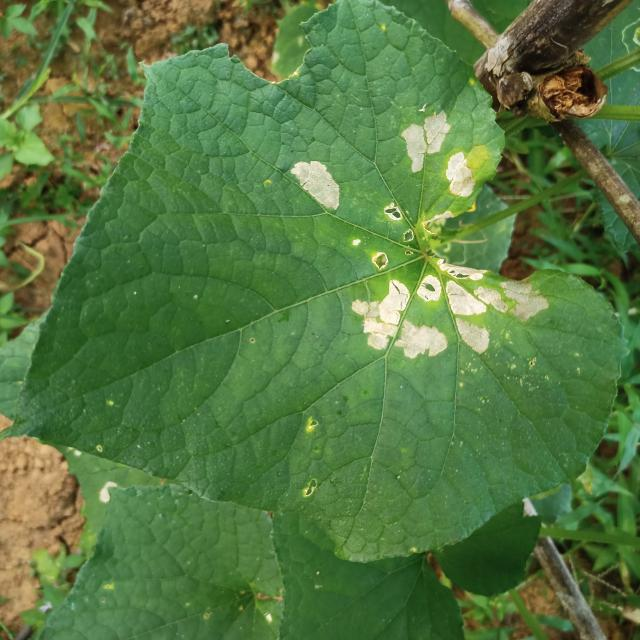disease_cucumber: (349, 252, 550, 358), (401, 107, 452, 174), (290, 158, 344, 212), (445, 150, 477, 198), (384, 201, 417, 243)
